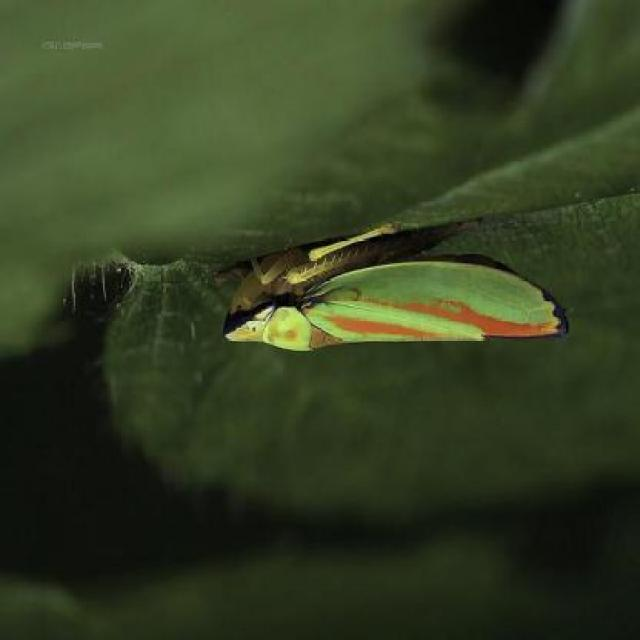green-leafhopper: (215, 236, 568, 362)
